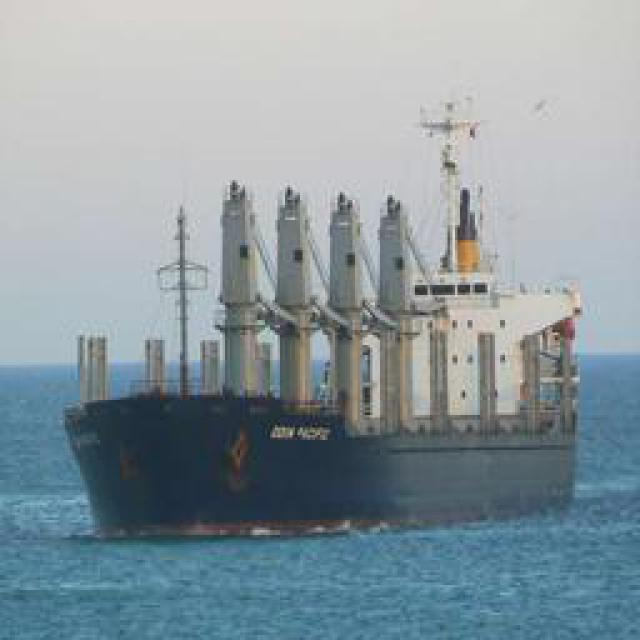Ship: (69, 155, 592, 538)
